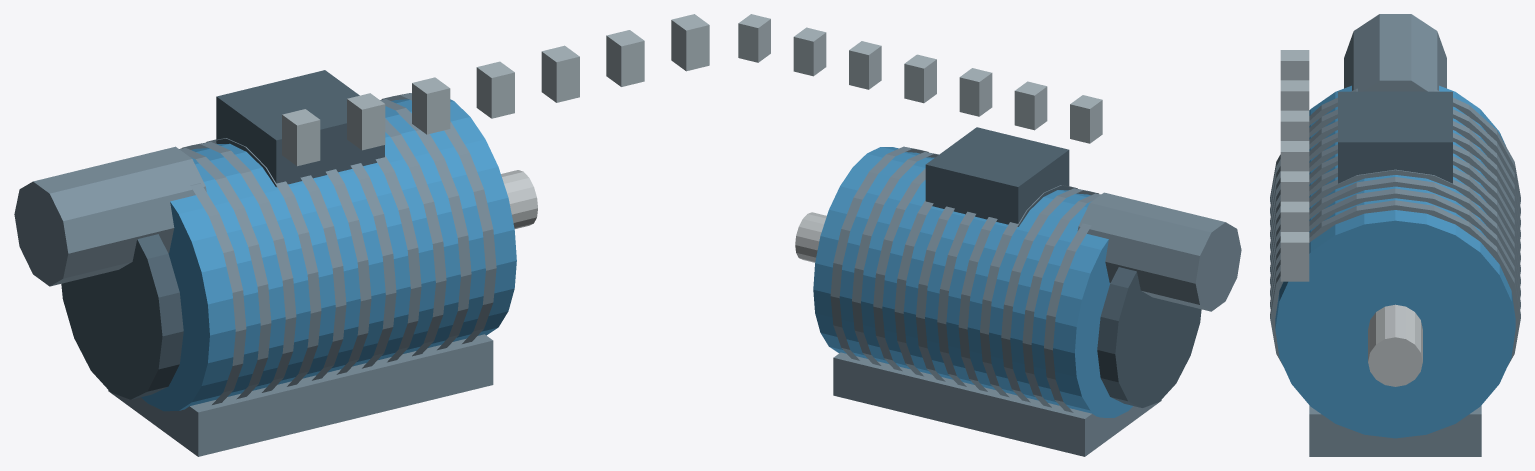
File: 59_L78_VacuumBackingPump.glb
The picture shows the model from 3 angles, left to right: view 1: azimuth 30°, elevation 25°; view 2: azimuth 150°, elevation 25°; view 3: azimuth 270°, elevation 25°; orthographic projection. The views are drawn at different scales.
Visible parts, largest first — view 1: VacuumBackingPump_Node_0000, VacuumBackingPump_Node_0014, VacuumBackingPump_Node_0016, VacuumBackingPump_Node_0013, VacuumBackingPump_Node_0015, VacuumBackingPump_Node_0003, VacuumBackingPump_Node_0002, VacuumBackingPump_Node_0010, VacuumBackingPump_Node_0009, VacuumBackingPump_Node_0011, VacuumBackingPump_Node_0001, VacuumBackingPump_Node_0004 (+12 smaller); view 2: VacuumBackingPump_Node_0000, VacuumBackingPump_Node_0014, VacuumBackingPump_Node_0016, VacuumBackingPump_Node_0015, VacuumBackingPump_Node_0013, VacuumBackingPump_Node_0003, VacuumBackingPump_Node_0011, VacuumBackingPump_Node_0010, VacuumBackingPump_Node_0002, VacuumBackingPump_Node_0009, VacuumBackingPump_Node_0001, VacuumBackingPump_Node_0004 (+12 smaller); view 3: VacuumBackingPump_Node_0000, VacuumBackingPump_Node_0015, VacuumBackingPump_Node_0016, VacuumBackingPump_Node_0014, VacuumBackingPump_Node_0012, VacuumBackingPump_Node_0011, VacuumBackingPump_Node_0010, VacuumBackingPump_Node_0009, VacuumBackingPump_Node_0008, VacuumBackingPump_Node_0023, VacuumBackingPump_Node_0001, VacuumBackingPump_Node_0006 (+11 smaller).
Part boxes in pixels (box(x1,y1,x2,y2)): VacuumBackingPump_Node_0000: box(141, 99, 516, 411); VacuumBackingPump_Node_0014: box(108, 334, 493, 456); VacuumBackingPump_Node_0016: box(14, 146, 206, 286); VacuumBackingPump_Node_0013: box(61, 234, 183, 399); VacuumBackingPump_Node_0015: box(216, 70, 384, 187); VacuumBackingPump_Node_0003: box(181, 141, 296, 392); VacuumBackingPump_Node_0002: box(179, 147, 271, 399); VacuumBackingPump_Node_0010: box(380, 99, 471, 350); VacuumBackingPump_Node_0009: box(385, 118, 446, 356); VacuumBackingPump_Node_0011: box(382, 93, 496, 343); VacuumBackingPump_Node_0001: box(190, 183, 246, 404); VacuumBackingPump_Node_0004: box(206, 138, 321, 386); VacuumBackingPump_Node_0000: box(813, 147, 1132, 417); VacuumBackingPump_Node_0014: box(833, 352, 1161, 456); VacuumBackingPump_Node_0016: box(1077, 192, 1241, 311); VacuumBackingPump_Node_0015: box(925, 127, 1069, 226); VacuumBackingPump_Node_0013: box(1097, 267, 1201, 407); VacuumBackingPump_Node_0003: box(1001, 188, 1098, 402); VacuumBackingPump_Node_0011: box(830, 146, 928, 360); VacuumBackingPump_Node_0010: box(852, 152, 938, 365); VacuumBackingPump_Node_0002: box(1022, 193, 1100, 407); VacuumBackingPump_Node_0009: box(873, 168, 925, 371); VacuumBackingPump_Node_0001: box(1044, 223, 1091, 412); VacuumBackingPump_Node_0004: box(980, 185, 1077, 397); VacuumBackingPump_Node_0000: box(1275, 85, 1515, 438); VacuumBackingPump_Node_0015: box(1338, 91, 1452, 183); VacuumBackingPump_Node_0016: box(1344, 14, 1446, 91); VacuumBackingPump_Node_0014: box(1309, 405, 1481, 456); VacuumBackingPump_Node_0012: box(1368, 304, 1422, 386); VacuumBackingPump_Node_0011: box(1270, 200, 1520, 365); VacuumBackingPump_Node_0010: box(1270, 188, 1520, 309); VacuumBackingPump_Node_0009: box(1270, 177, 1520, 297); VacuumBackingPump_Node_0008: box(1270, 169, 1520, 286); VacuumBackingPump_Node_0023: box(1280, 232, 1309, 281); VacuumBackingPump_Node_0001: box(1270, 88, 1520, 204); VacuumBackingPump_Node_0006: box(1270, 156, 1520, 262).
Size of the model in its own units: 2.34 by 1.19 by 0.8736.
